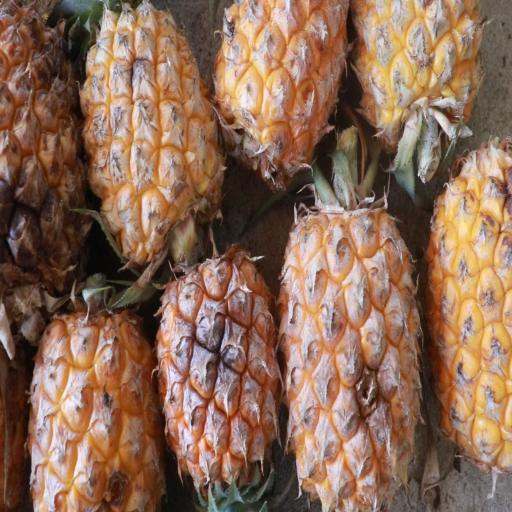Pineapple - v8 v1: (280, 182, 428, 512), (78, 0, 229, 259), (24, 267, 166, 512), (150, 243, 281, 508), (0, 0, 88, 338), (426, 140, 511, 476), (212, 0, 348, 191), (351, 0, 484, 167)
